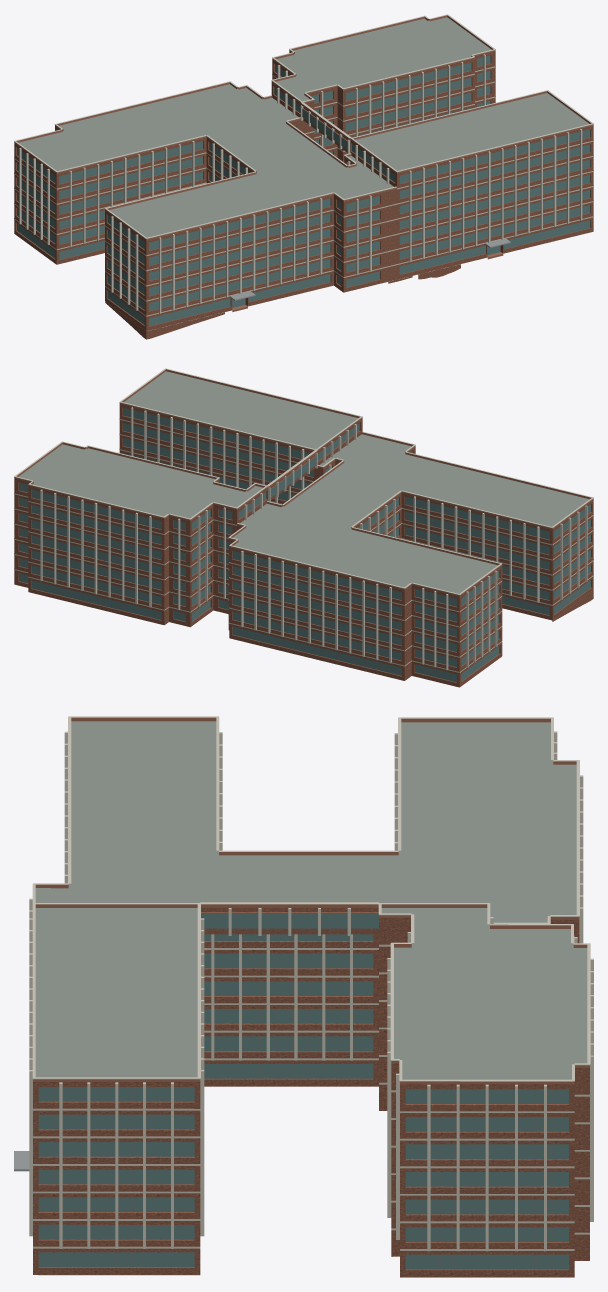
The picture shows the model from 3 angles, top to bottom: view 1: azimuth 30°, elevation 25°; view 2: azimuth 150°, elevation 25°; view 3: azimuth 270°, elevation 25°; orthographic projection. The views are drawn at different scales.
Parts seen in each view (by area): view 1: engineering__roof, engineering__wall, engineering__glass, engineering__trim, engineering__parapet, engineering__frame, engineering__foundationSkirt; view 2: engineering__roof, engineering__wall, engineering__glass, engineering__trim, engineering__parapet, engineering__frame; view 3: engineering__roof, engineering__wall, engineering__glass, engineering__trim, engineering__parapet, engineering__frame.
Part boxes in pixels (box(x1,y1,x2,y2)): engineering__roof: box(18, 17, 588, 325); engineering__wall: box(14, 51, 593, 331); engineering__glass: box(17, 55, 590, 325); engineering__trim: box(14, 14, 593, 316); engineering__parapet: box(14, 15, 593, 240); engineering__frame: box(21, 57, 583, 324); engineering__foundationSkirt: box(105, 264, 460, 339); engineering__roof: box(18, 371, 589, 687); engineering__wall: box(14, 404, 593, 687); engineering__glass: box(19, 407, 590, 682); engineering__trim: box(14, 368, 593, 672); engineering__parapet: box(14, 369, 593, 596); engineering__frame: box(19, 409, 578, 680); engineering__roof: box(35, 721, 587, 1277); engineering__wall: box(33, 908, 589, 1277); engineering__glass: box(38, 913, 568, 1269); engineering__trim: box(29, 716, 593, 1251); engineering__parapet: box(33, 717, 589, 1084); engineering__frame: box(54, 934, 552, 1269).
Bounding box in the file's own units: 108 × 26.91 × 66.73.
11 materials, 2 textured.
